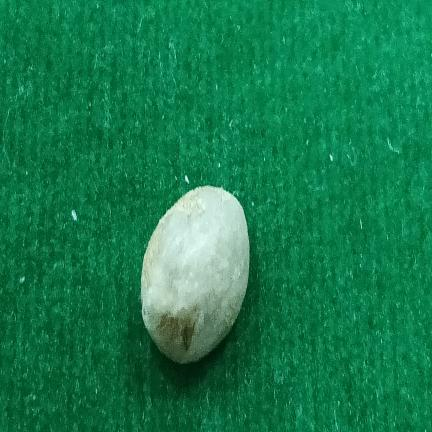cut: (141, 186, 249, 364)
